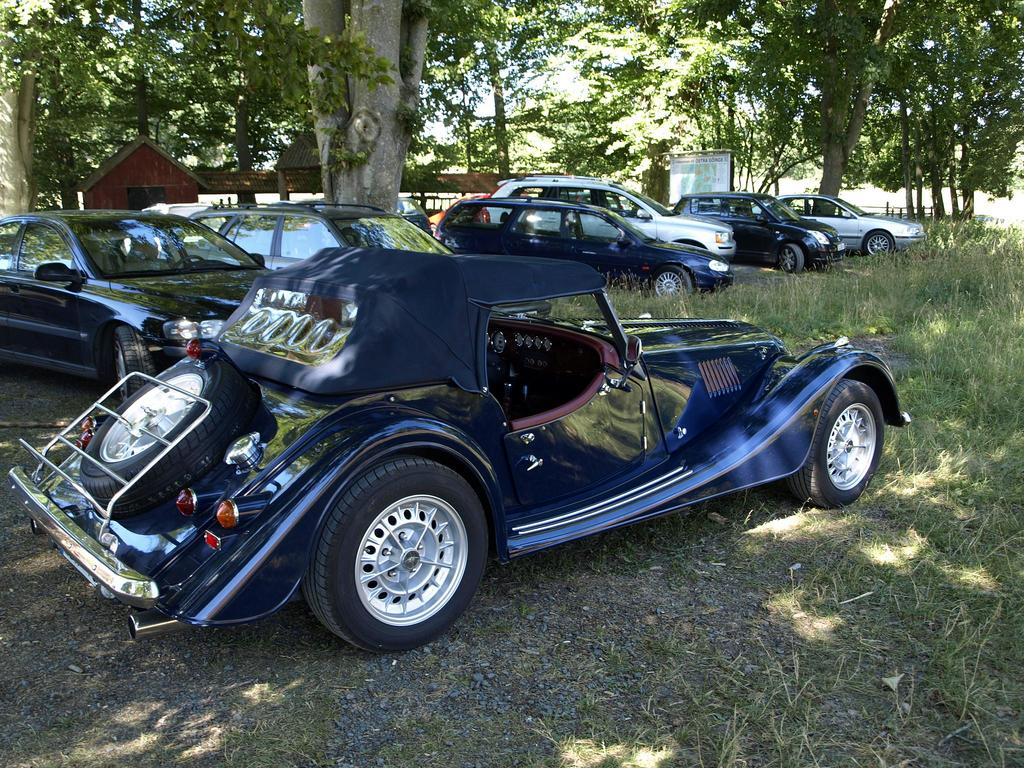Tree: (0, 0, 1024, 231)
